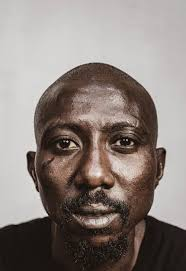face: (23, 57, 174, 266)
